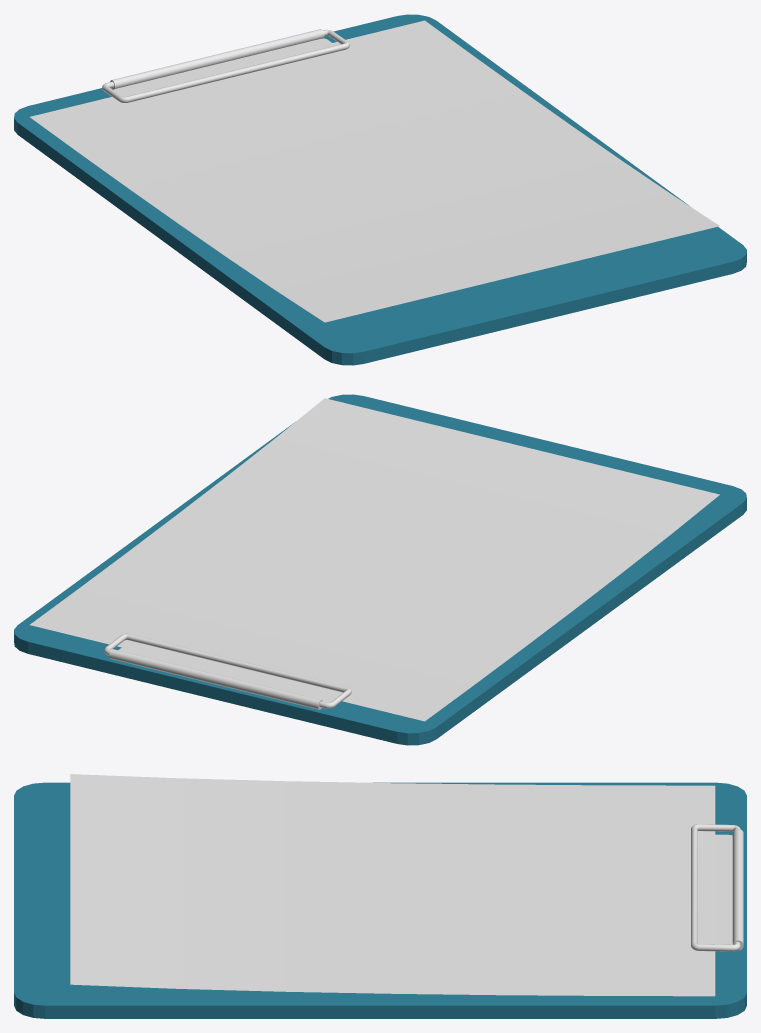
The model's file is clipboard 2.fbx.
3 views of the same model, one above another, from view 1: azimuth 30°, elevation 25°; view 2: azimuth 150°, elevation 25°; view 3: azimuth 270°, elevation 25° (orthographic). The views are drawn at different scales.
Parts seen in each view (by area): view 1: Plane, Cube, Cylinder, Vert, Cube.085; view 2: Plane, Cube, Cylinder, Vert, Cube.085; view 3: Plane, Cube, Cube.085, Vert, Cylinder.
Part boxes in pixels (x1,y1,x2,y2): Plane: (30,20,719,322); Cube: (14,14,746,365); Cylinder: (110,29,324,89); Vert: (102,29,349,102); Cube.085: (113,38,331,94); Plane: (30,398,719,721); Cube: (14,394,746,745); Cylinder: (109,649,322,709); Vert: (104,633,351,708); Cube.085: (118,647,333,702); Plane: (70,774,715,996); Cube: (14,782,746,1018); Cube.085: (715,834,732,944); Vert: (691,824,740,951); Cylinder: (732,829,743,950).
Bounding box in the file's own units: 22.86 × 1.34 × 31.75.
